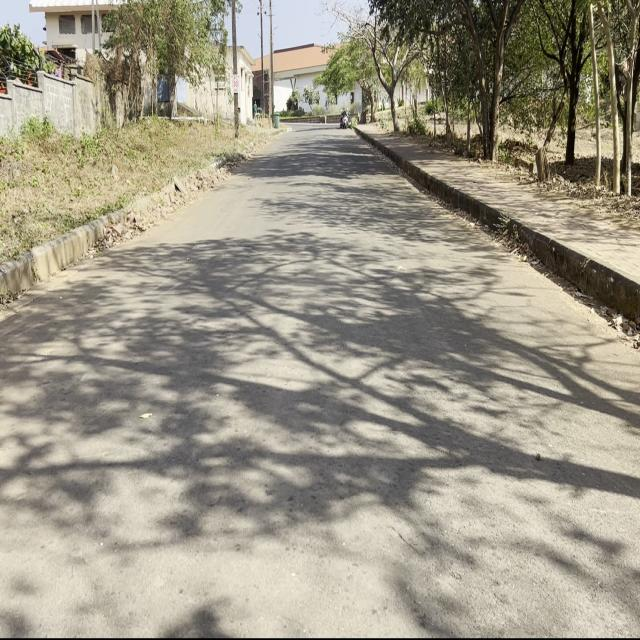Road: (4, 127, 639, 631)
